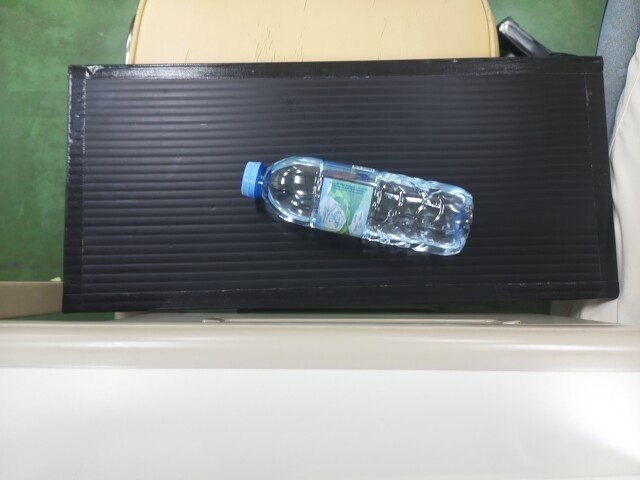plastic_bottle: (231, 148, 474, 256)
